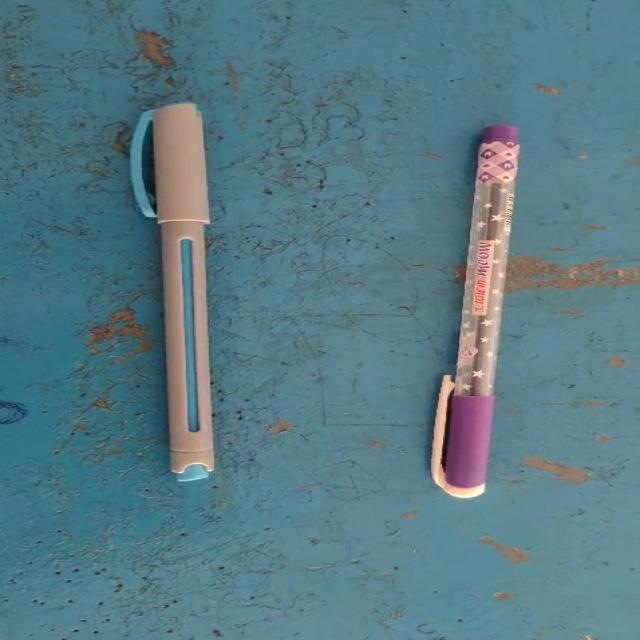pen: (93, 79, 284, 506), (378, 98, 566, 517)
